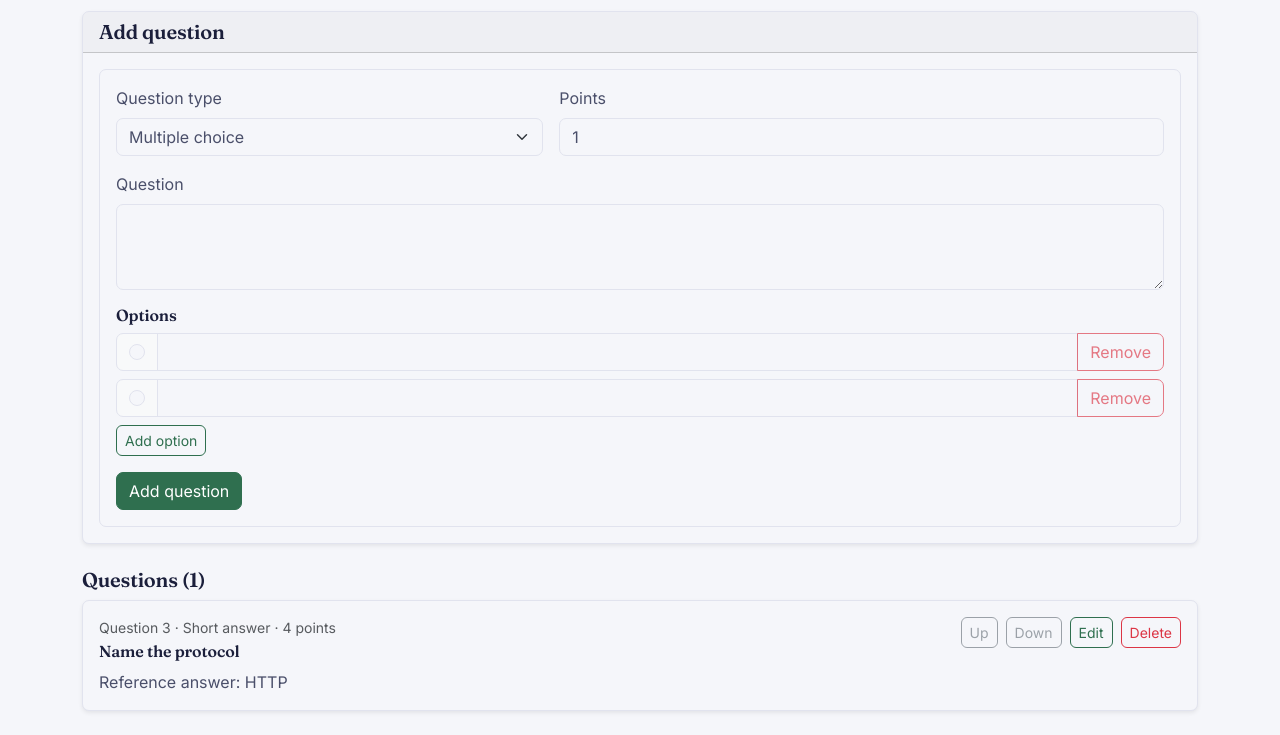
Test: question creation and updates › updates a short answer question through the service with a clean final payload
(page scrolled)
expect the heading "Add question" is shown: met, box [99,19,224,44]
Click the button "Edit" at (1091, 633), box [1070,617,1113,648]
(page scrolled)
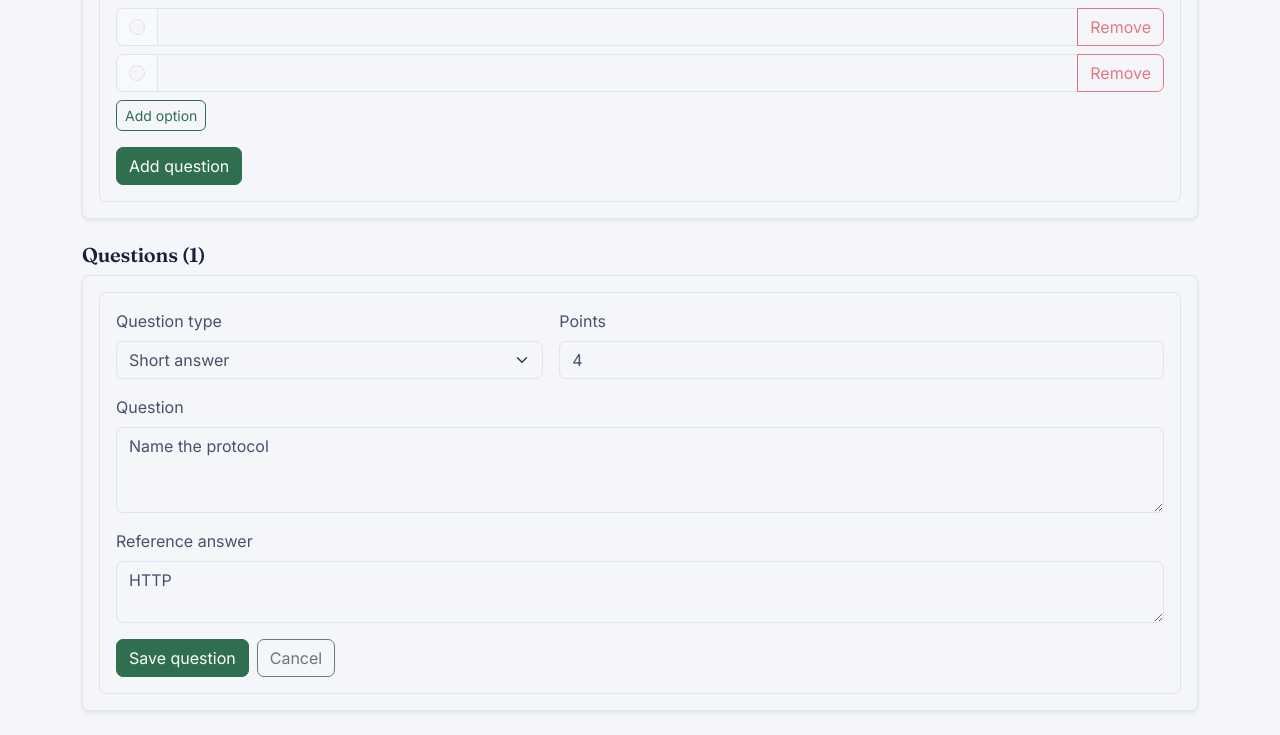
Click the button "Save question" at (182, 658), box [116,639,249,677]
(page scrolled)
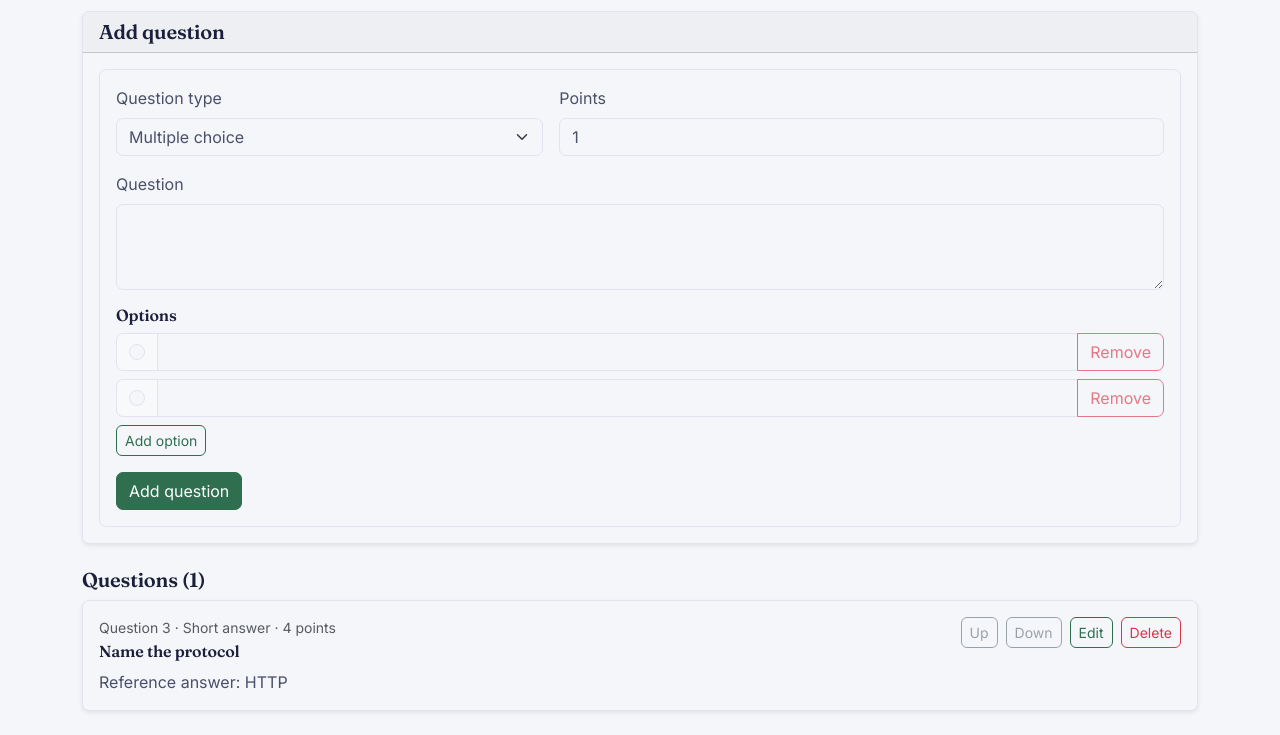
expect the heading "Name the protocol" is shown: met, box [99,641,240,661]
